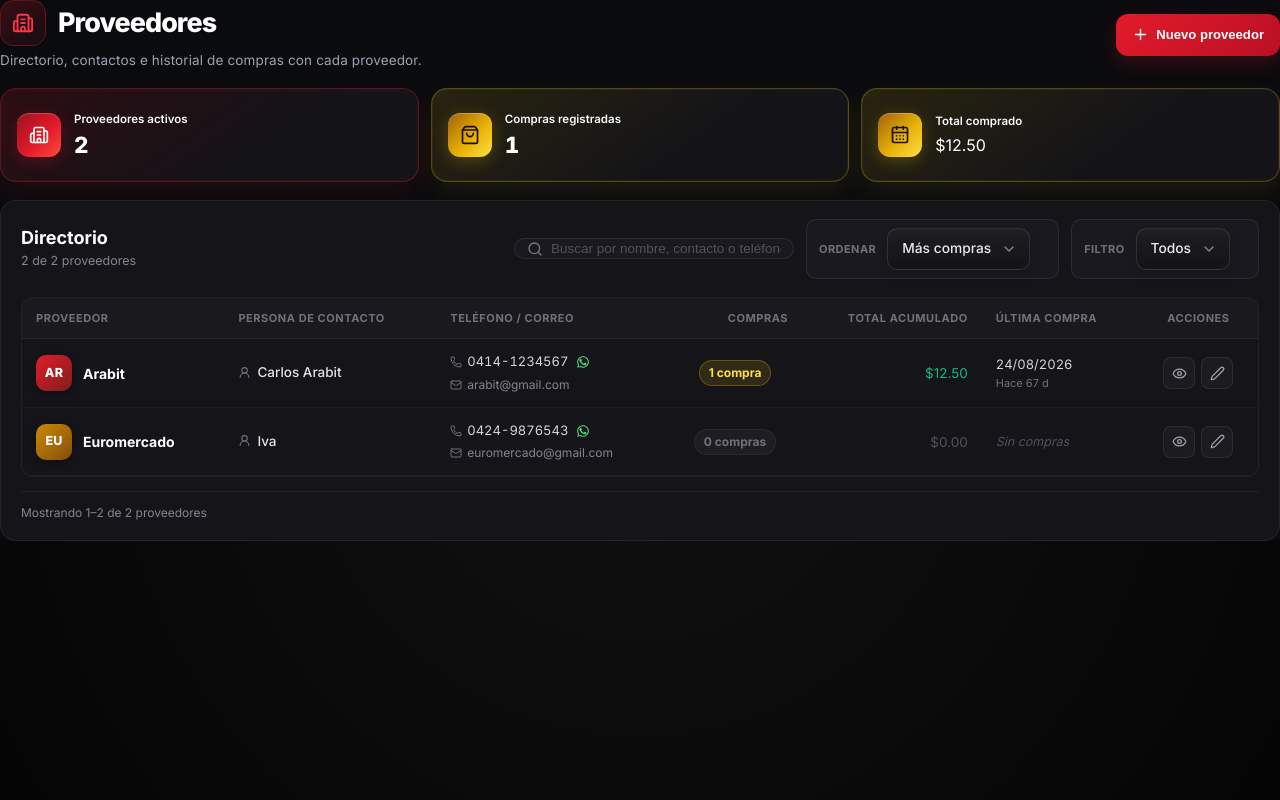
Test: Página de Proveedores (Formato Tabla) › abre el historial de compras al hacer clic en ver historial
Expected: the text "Arabit" is shown, [83,363,125,384]
Click the button titled "Ver historial de compras" in the row of "Carlos Arabit": click(1179, 373) [1163,357,1195,389]
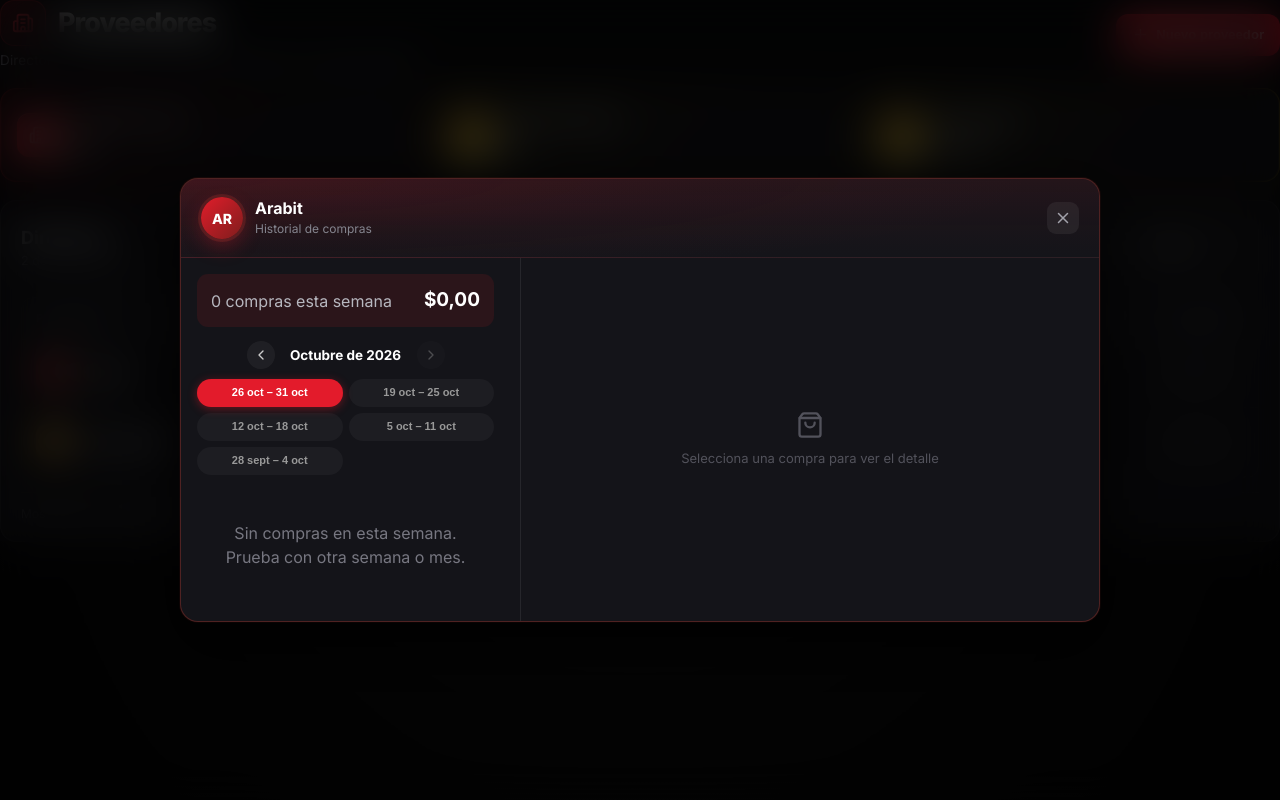
Now the dialog "Arabit" is shown, box [180,178,1100,622]
Now the text "Historial de compras" is shown, box [255,220,372,238]
